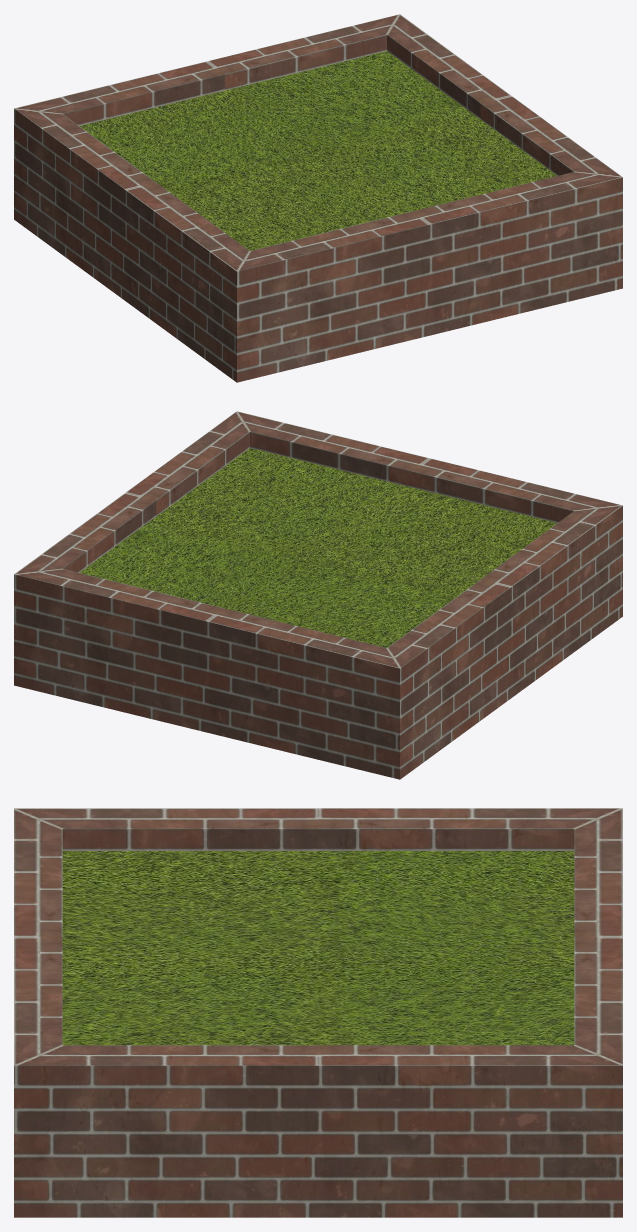
The model's file is Platform_full.dae.
The picture shows the model from 3 angles, top to bottom: view 1: azimuth 30°, elevation 25°; view 2: azimuth 150°, elevation 25°; view 3: azimuth 270°, elevation 25°; orthographic projection. The views are drawn at different scales.
Parts seen in each view (by area): view 1: group_0 (×4); view 2: group_0 (×4); view 3: group_0 (×4).
Boxes of the visible parts, x1=… form: group_0 (×4): x1=14, y1=14, x2=622, y2=382; group_0 (×4): x1=14, y1=411, x2=622, y2=779; group_0 (×4): x1=14, y1=808, x2=622, y2=1217.
Size of the model in its own units: 39.37 by 39.37 by 10.83.
Materials: 3 (3 with a texture image).
